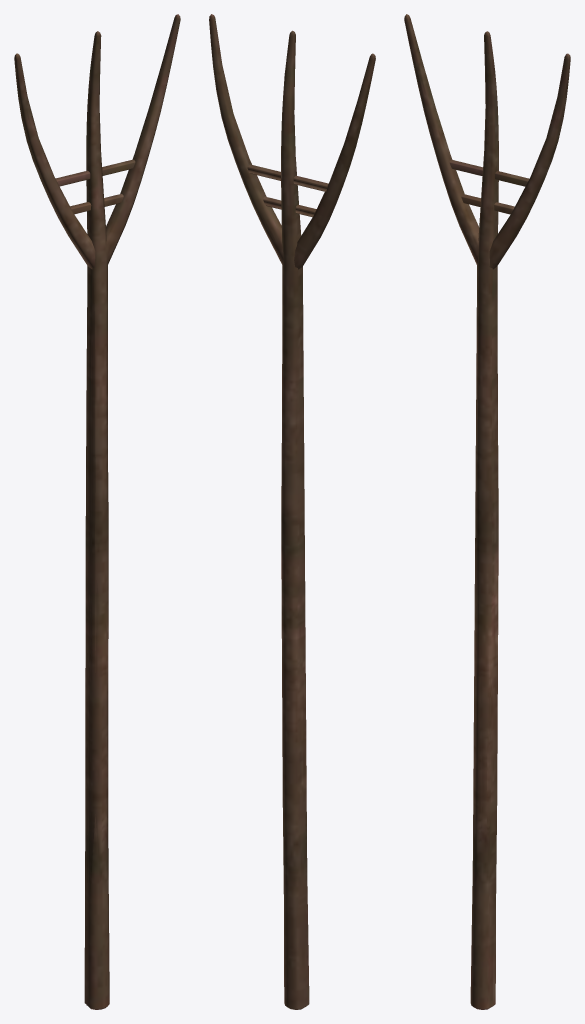
Rendered from HayFork.glb.
The picture shows the model from 3 angles, left to right: view 1: azimuth 30°, elevation 25°; view 2: azimuth 150°, elevation 25°; view 3: azimuth 330°, elevation 25°; orthographic projection.
Visible parts, largest first — view 1: HayFork; view 2: HayFork; view 3: HayFork.
Part boxes in pixels (left/top/right/bottom): HayFork: left=14, top=14, right=180, bottom=1009; HayFork: left=209, top=14, right=375, bottom=1009; HayFork: left=404, top=14, right=570, bottom=1009.
Size of the model in its own units: 0.3269 by 1.84 by 0.0531.
Materials: 1 (1 with a texture image).
